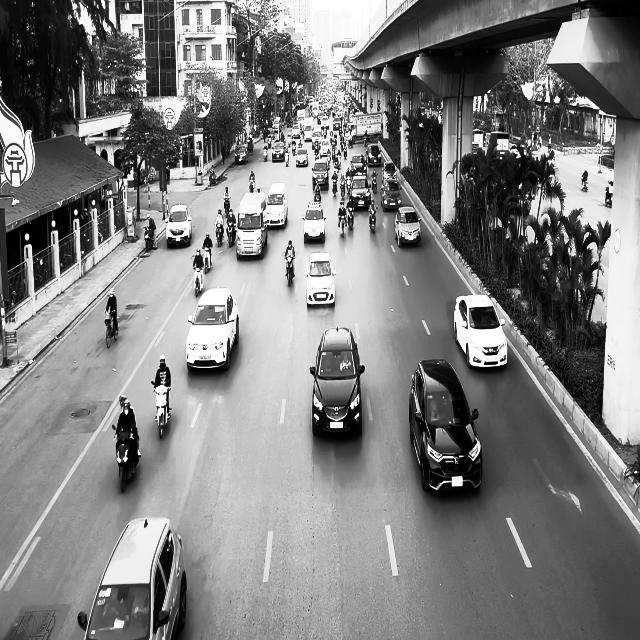car: (77, 516, 187, 640), (409, 357, 482, 493), (309, 326, 365, 437), (186, 287, 239, 372), (453, 294, 508, 369), (304, 252, 336, 306), (394, 205, 422, 247), (166, 204, 192, 248), (264, 182, 288, 229), (302, 200, 326, 244), (350, 176, 370, 210), (381, 178, 401, 211), (312, 160, 329, 190), (234, 145, 248, 164)
motorbike: (112, 424, 141, 492), (150, 381, 171, 438), (105, 312, 118, 348), (284, 255, 294, 287), (193, 266, 203, 296), (368, 207, 378, 233), (144, 225, 154, 251), (203, 247, 212, 273), (581, 174, 588, 192)
